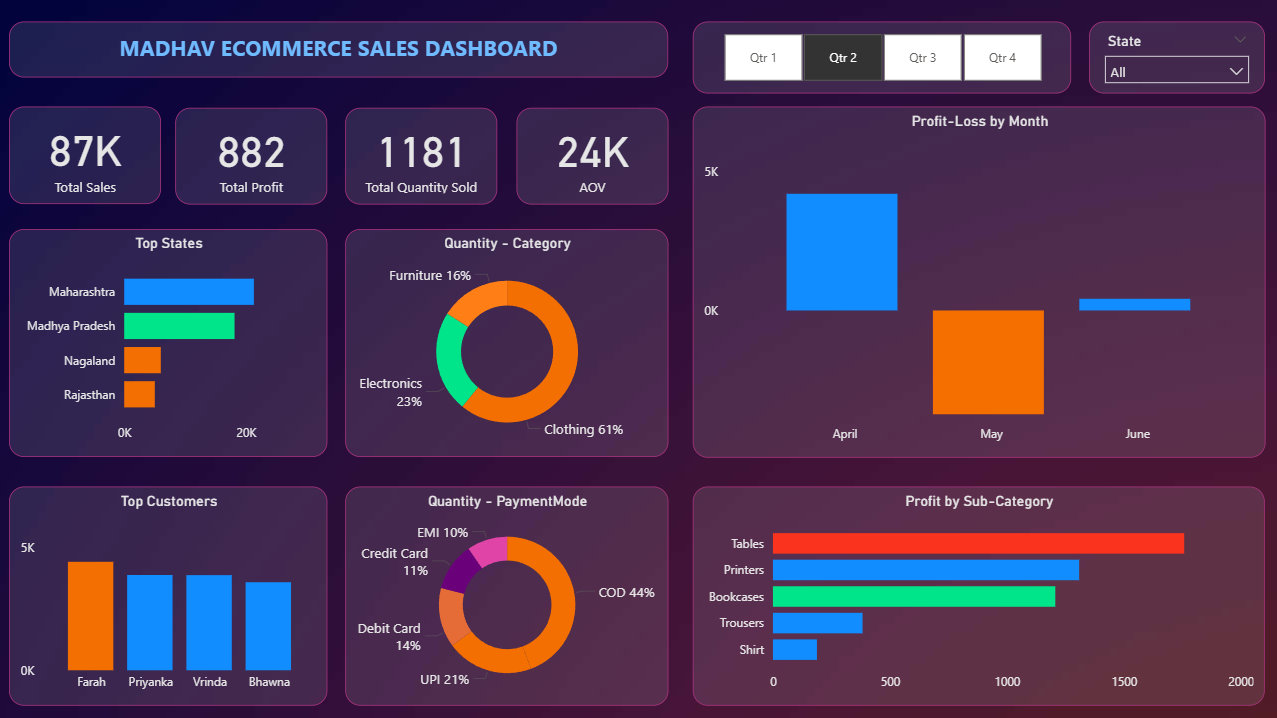

The dashboard page shown, as its layout file describes it:
{"tool":"powerbi","page":{"name":"Page 1","canvas":[1280,720],"ordinal":0},"visuals":[{"type":"textbox","box":[10.1,22.8,659.5,55.7],"z":0},{"type":"columnChart","title":"Profit-Loss by Month","fields":{"Category":["Orders.Order Date.Variation.Date Hierarchy.Month"],"Y":["Sum(Details.Profit)"]},"box":[693.7,107.4,573.1,351.1],"z":1000},{"type":"barChart","title":"Profit by Sub-Category","fields":{"Category":["Details.Sub-Category"],"Y":["Sum(Details.Profit)"]},"box":[693.7,487.4,571.9,219.6],"z":2000},{"type":"donutChart","title":"Quantity - Category","fields":{"Category":["Details.Category"],"Y":["Sum(Details.Quantity)"]},"box":[346.2,230.4,323.3,228],"z":3000},{"type":"donutChart","title":"Quantity - PaymentMode","fields":{"Y":["Sum(Details.Quantity)"],"Category":["Details.PaymentMode"]},"box":[346.2,487.4,323.3,219.6],"z":4000},{"type":"card","fields":{"Values":["Sum(Details.Amount)"]},"box":[9.6,107,152.3,97.4],"z":5000},{"type":"card","fields":{"Values":["Sum(Details.Quantity)"]},"box":[346.2,108.6,152,96.5],"z":6000},{"type":"card","fields":{"Values":["Sum(Details.Profit)"]},"box":[176.1,108.6,152,96.5],"z":7000},{"type":"card","fields":{"Values":["Sum(Details.AOV)"]},"box":[517.6,108.6,152,96.5],"z":8000},{"type":"barChart","title":"Top States","fields":{"Category":["Orders.State"],"Y":["Sum(Details.Amount)"]},"box":[9.7,230.4,318.5,228],"z":9000},{"type":"columnChart","title":"Top Customers","fields":{"Category":["Orders.CustomerName"],"Y":["Sum(Details.Amount)"]},"box":[9.7,487.4,318.5,219.6],"z":10000},{"type":"slicer","fields":{"Values":["Orders.Order Date.Variation.Date Hierarchy.Quarter"]},"box":[693.7,22.8,378.5,72.2],"z":11000},{"type":"slicer","fields":{"Values":["Orders.State"]},"box":[1089.9,22.8,175.9,72.2],"z":12000}]}

Visuals, with their boxes in screenshot pixels (x1, y1, x2, y2), scaled from the page's 1280x720 canvas onto the 1277x718 screenshot:
textbox: rect(10, 23, 668, 78)
"Profit-Loss by Month" columnChart: rect(692, 107, 1264, 457)
"Profit by Sub-Category" barChart: rect(692, 486, 1263, 705)
"Quantity - Category" donutChart: rect(345, 230, 668, 457)
"Quantity - PaymentMode" donutChart: rect(345, 486, 668, 705)
card - Sum(Details.Amount): rect(10, 107, 162, 204)
card - Sum(Details.Quantity): rect(345, 108, 497, 205)
card - Sum(Details.Profit): rect(176, 108, 327, 205)
card - Sum(Details.AOV): rect(516, 108, 668, 205)
"Top States" barChart: rect(10, 230, 327, 457)
"Top Customers" columnChart: rect(10, 486, 327, 705)
slicer - Orders.Order Date.Variation.Date Hierarchy.Quarter: rect(692, 23, 1070, 95)
slicer - Orders.State: rect(1087, 23, 1263, 95)
